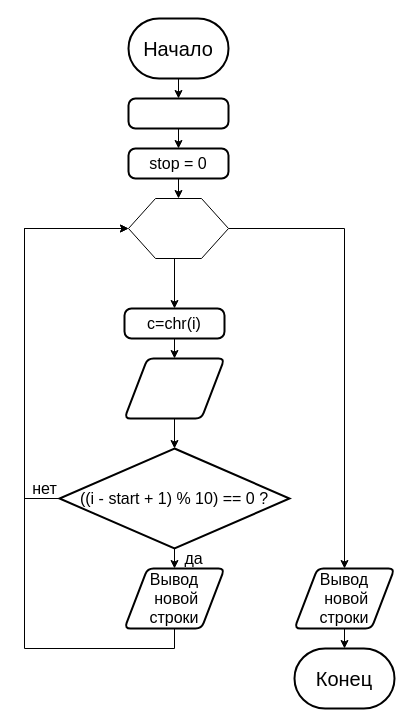
Image size: 413x726. Some labels were removed from this diagram. The shapes that lost their labels are listed below. From the top down, each one's centre as x and y in pixels, then its label:
At (x=178, y=113): "start = 0".
At (x=178, y=228): "i=start..stop".
At (x=174, y=388): "Вывод c".
